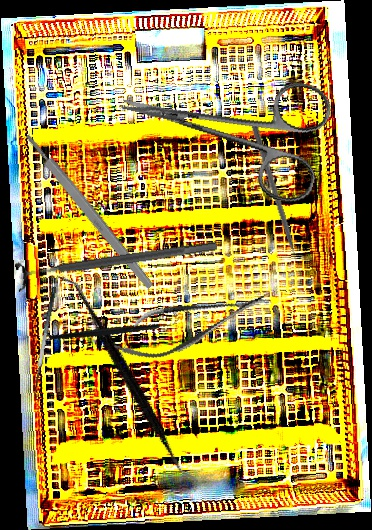Chopper: (48, 286, 182, 370)
Fixation Ring: (14, 230, 220, 294)
Iris Scissors: (108, 41, 337, 208)
Micro Scissor: (107, 276, 276, 371)
Pusher: (249, 122, 303, 274)
Scalpel Handle: (22, 131, 156, 291)
Spatula Surgical: (1, 273, 253, 484), (28, 286, 67, 399)
